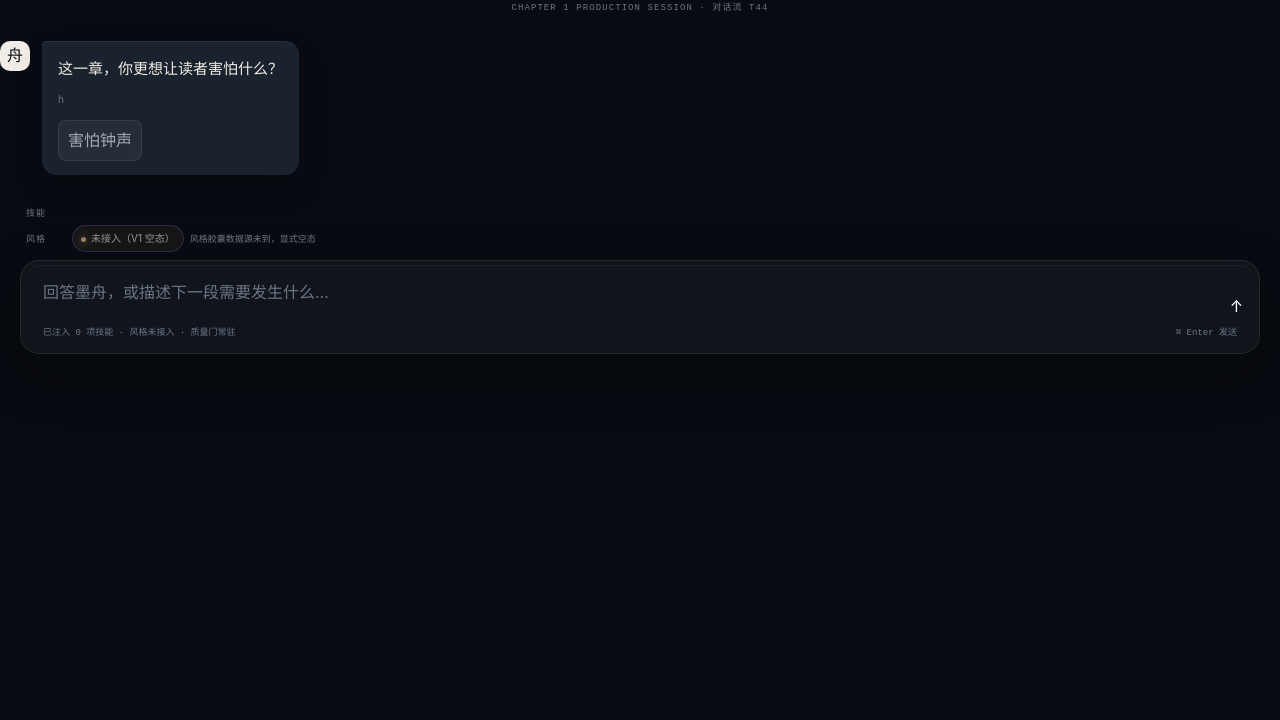
DialogueStream 候选采纳与时序保护（R04） › 采纳后作者新编辑再 Undo：CAS 检测发现盘面版本已变，拒绝覆盖并提示冲突
Step 1. Click the button "害怕钟声" → click(100, 140), box [58,120,142,161]
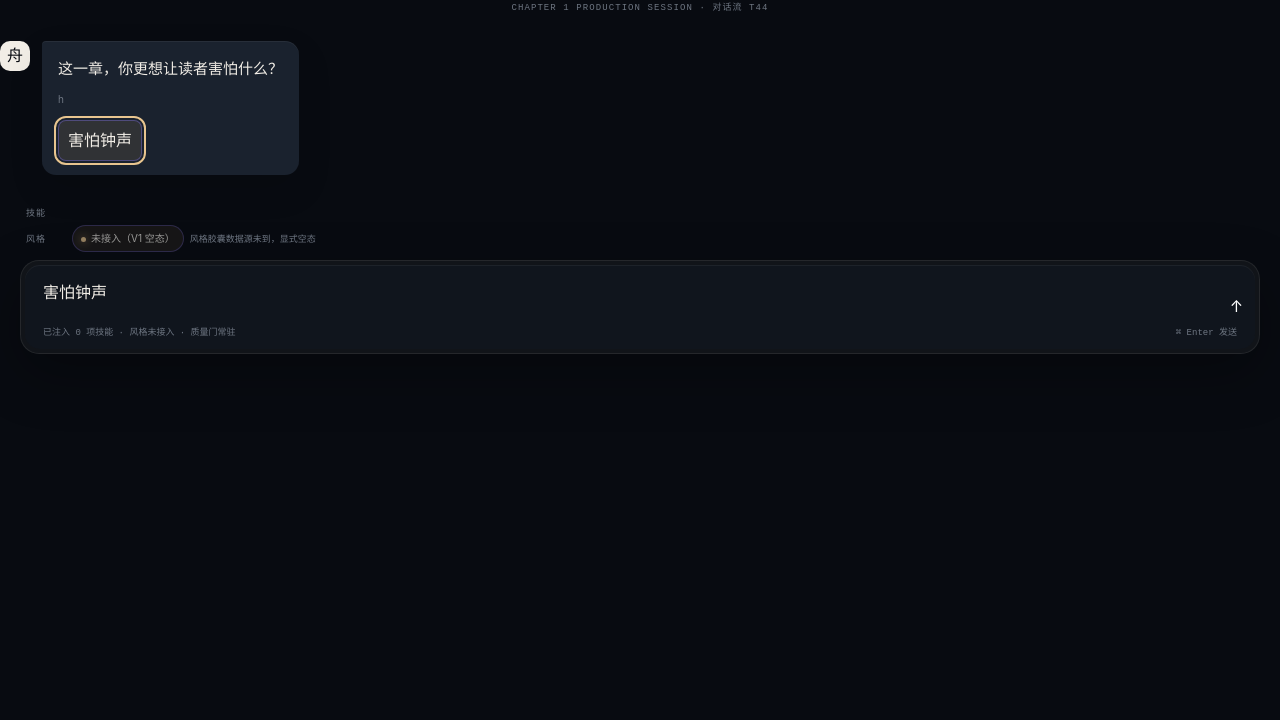
Step 2. Click the text box named "写作指令" → click(633, 297), box [37,276,1230,318]
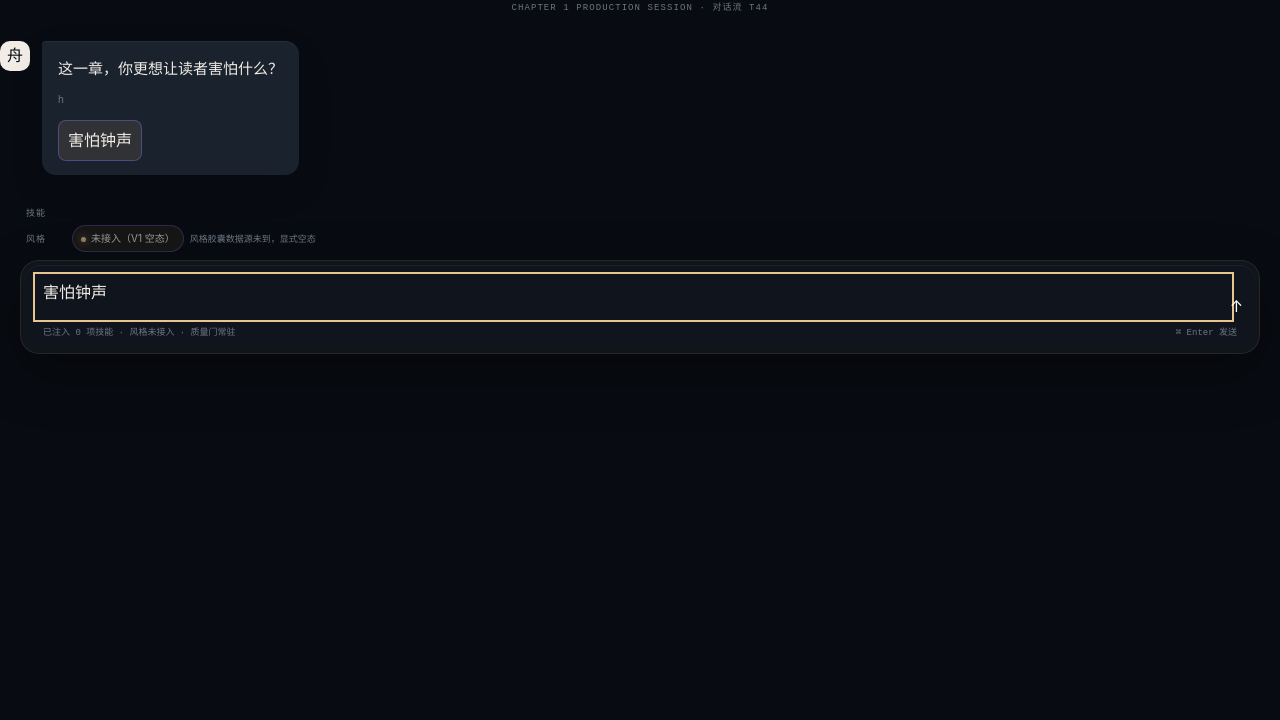
Step 3. Type keys "继续"
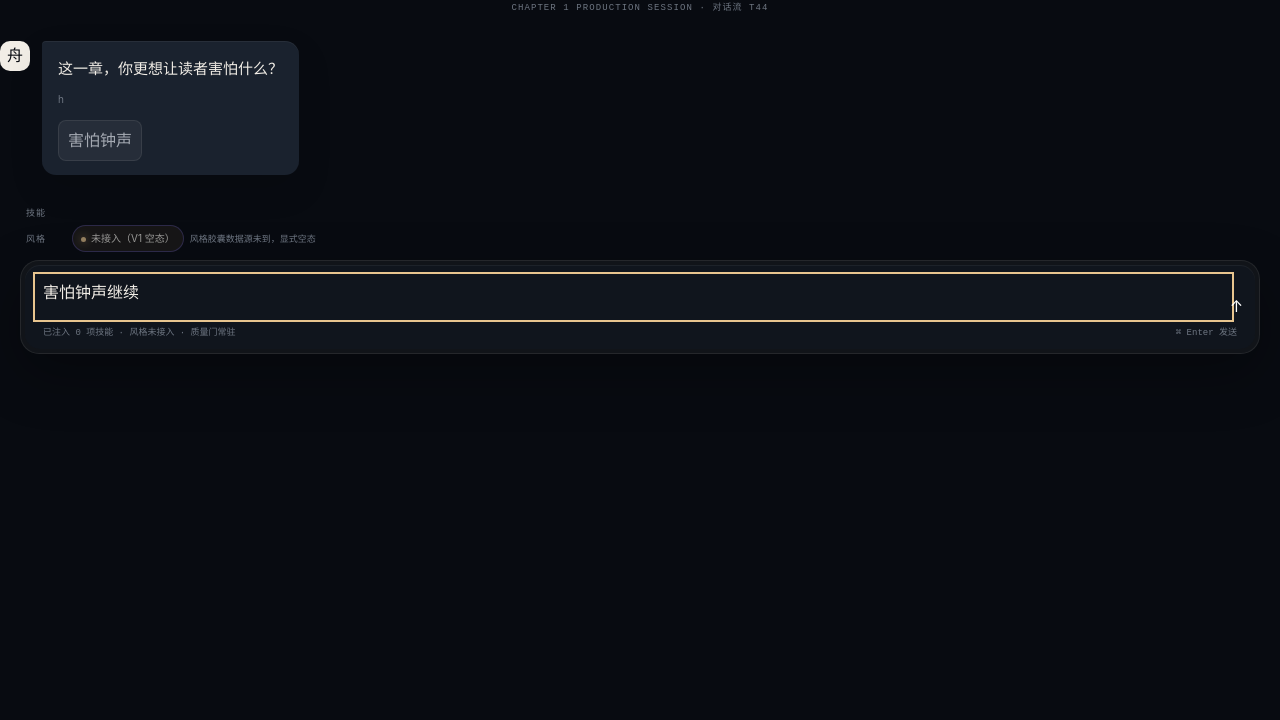
Step 4. Click the button named "发送" → click(1236, 306), box [1230,294,1243,318]
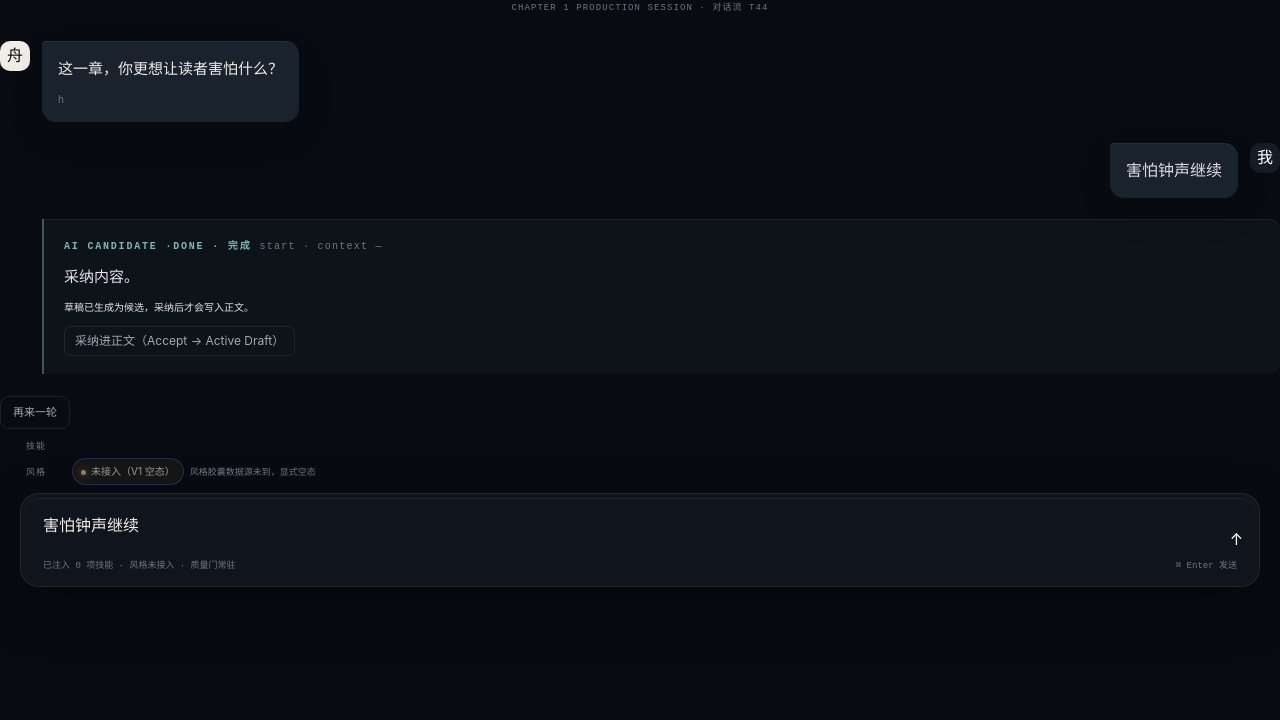
Result: the button with test id "adopt-into-slate" is shown
Step 5. Click the button with test id "adopt-into-slate" → click(180, 341), box [64,326,295,356]
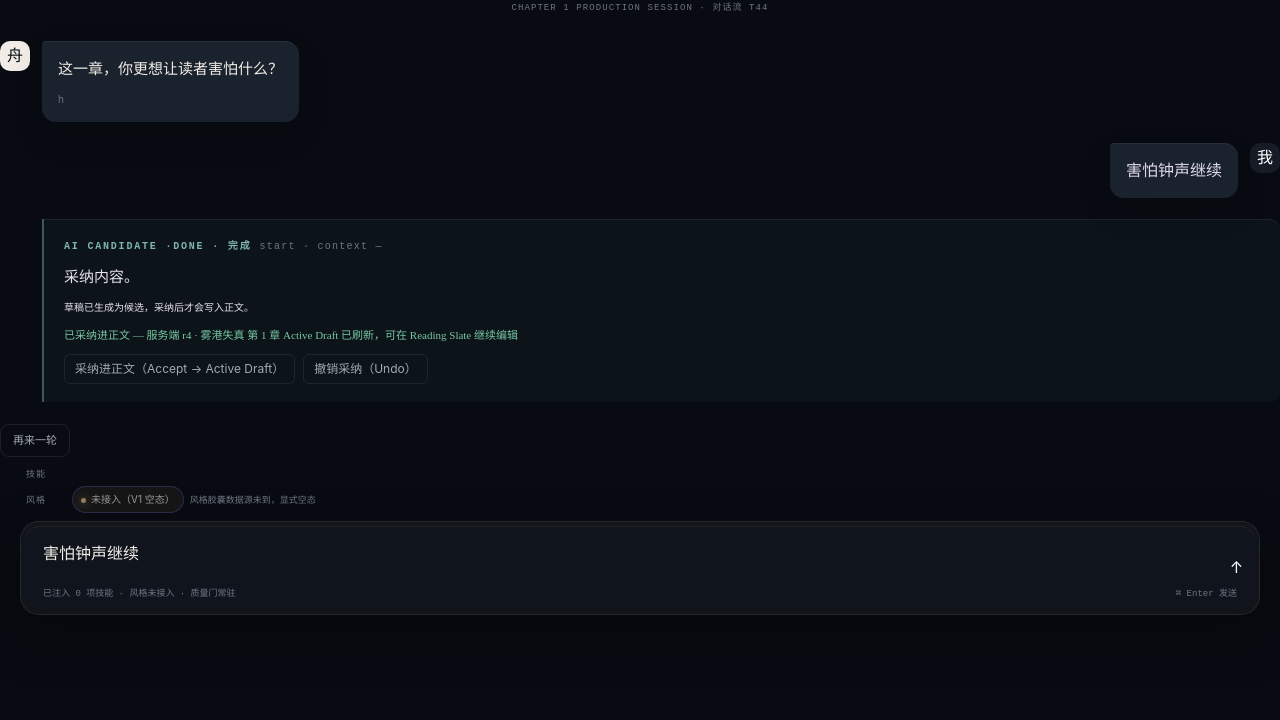
Result: the button with test id "undo-accept" is shown
Step 6. Click the button with test id "undo-accept" → click(366, 369), box [303,354,428,384]
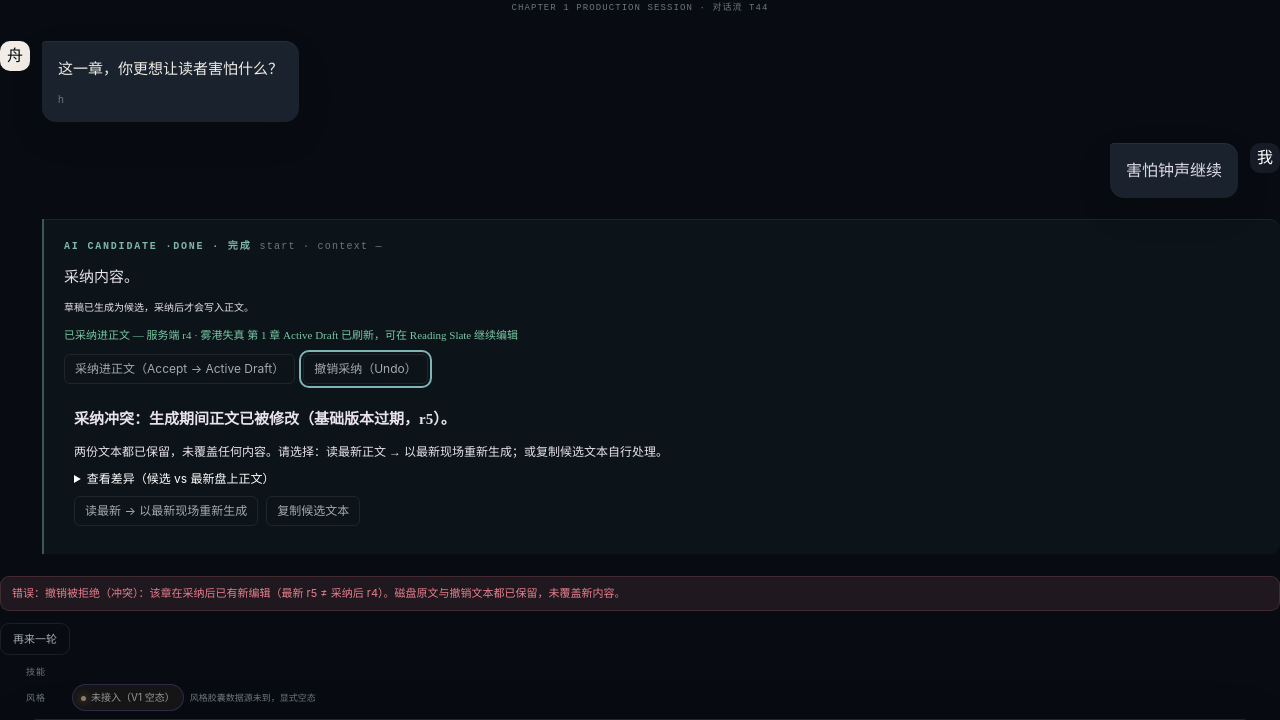
Result: the text "错误：撤销被拒绝（冲突）：该章在采纳后已有新编辑（最新 r5 ≠ 采纳后 r4）。磁盘原文与撤销文本都已保留，未覆盖新内容。" is shown at [0,576,1279,611]
